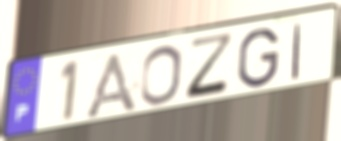1: (58, 58, 79, 123)
A: (81, 49, 141, 119)
G: (236, 26, 282, 90)
I: (290, 21, 304, 81)
O: (138, 43, 183, 107)
Z: (184, 30, 237, 103)
